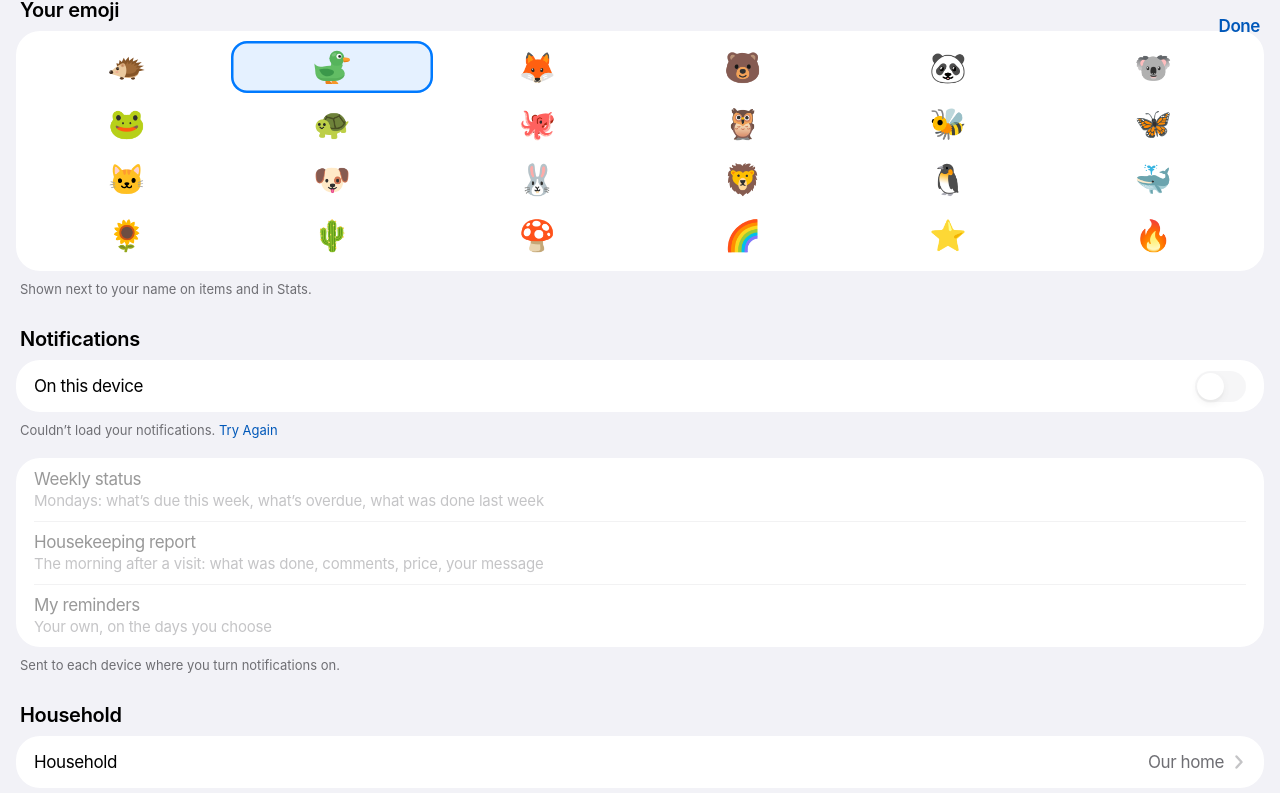
it: Profile > Notifications in server mode: what to send › says when they could not be loaded, and tries again
(page scrolled)
Check: the message reads "Couldn’t load your notifications. Try Again", box [20, 422, 278, 438]
Check: the checkbox labelled "Weekly status" is disabled, box [16, 458, 1264, 521]
Click the button "Try Again". click: [248, 430]
box: [219, 422, 278, 438]
(page scrolled)
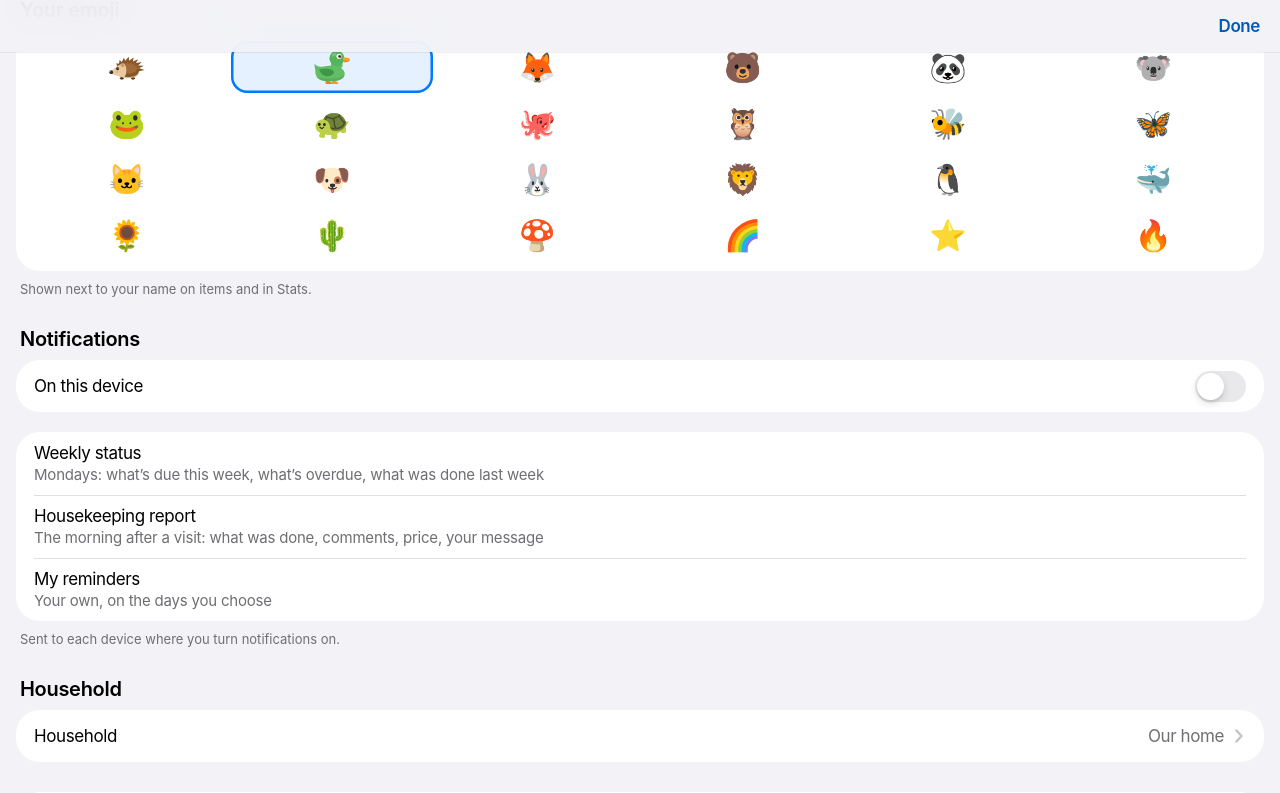
Check: the checkbox labelled "Weekly status" is enabled, box [16, 432, 1264, 495]
